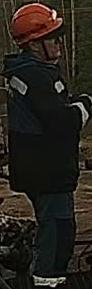gloves: (77, 93, 92, 120)
helmet: (9, 2, 64, 46)
vest: (2, 53, 82, 194)
